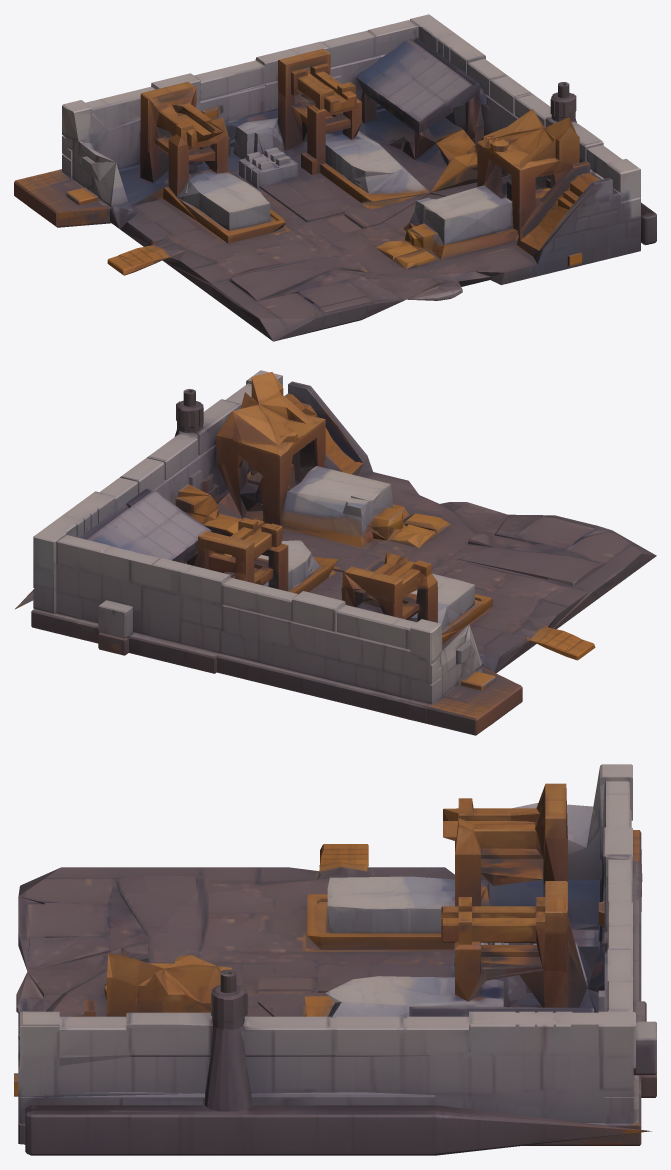
Rendered from stone_workshop.fbx.
The picture shows the model from 3 angles, top to bottom: view 1: azimuth 30°, elevation 25°; view 2: azimuth 150°, elevation 25°; view 3: azimuth 270°, elevation 25°; orthographic projection. The views are drawn at different scales.
Visible parts, largest first — view 1: texture_pbr_v128; view 2: texture_pbr_v128; view 3: texture_pbr_v128.
Boxes of the visible parts, <box> form: texture_pbr_v128: <box>14,14,656,341</box>; texture_pbr_v128: <box>15,370,656,735</box>; texture_pbr_v128: <box>14,764,656,1155</box>.
Bounding box in the file's own units: 190 × 49.13 × 168.
1 material, 1 textured.
